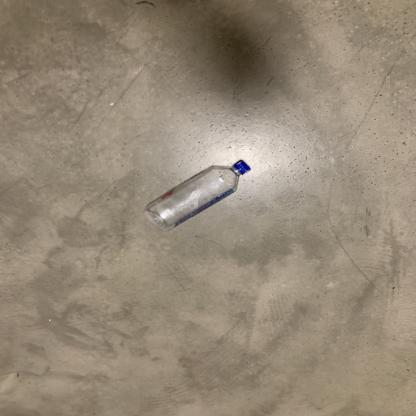trash: (141, 160, 254, 230)
